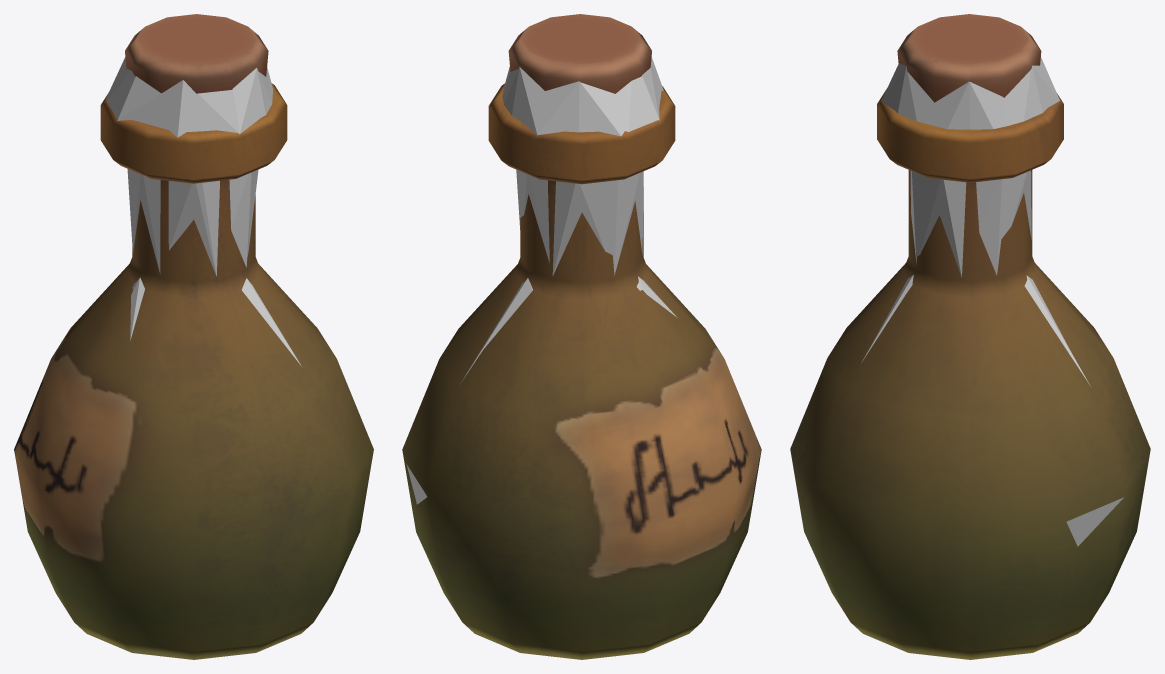
File: SM_Bottle_c.fbx
The picture shows the model from 3 angles, left to right: view 1: azimuth 30°, elevation 25°; view 2: azimuth 150°, elevation 25°; view 3: azimuth 270°, elevation 25°; orthographic projection.
Visible parts, largest first — view 1: SM_Bottle_c, SM_Bottle_c_ConvexHulls; view 2: SM_Bottle_c, SM_Bottle_c_ConvexHulls; view 3: SM_Bottle_c, SM_Bottle_c_ConvexHulls.
Boxes of the visible parts, x1,y1,x2,y2 form: SM_Bottle_c: [14, 14, 373, 659]; SM_Bottle_c_ConvexHulls: [105, 57, 301, 366]; SM_Bottle_c: [402, 14, 761, 659]; SM_Bottle_c_ConvexHulls: [406, 57, 677, 504]; SM_Bottle_c: [790, 14, 1150, 659]; SM_Bottle_c_ConvexHulls: [861, 57, 1123, 546].
Size of the model in its own units: 23.98 by 23.98 by 41.79.
2 materials, 1 textured.
